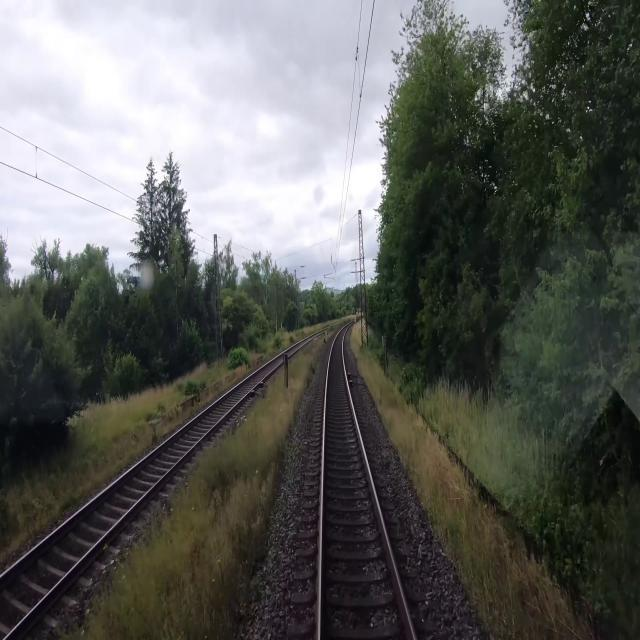Plant: (58, 352, 317, 639)
